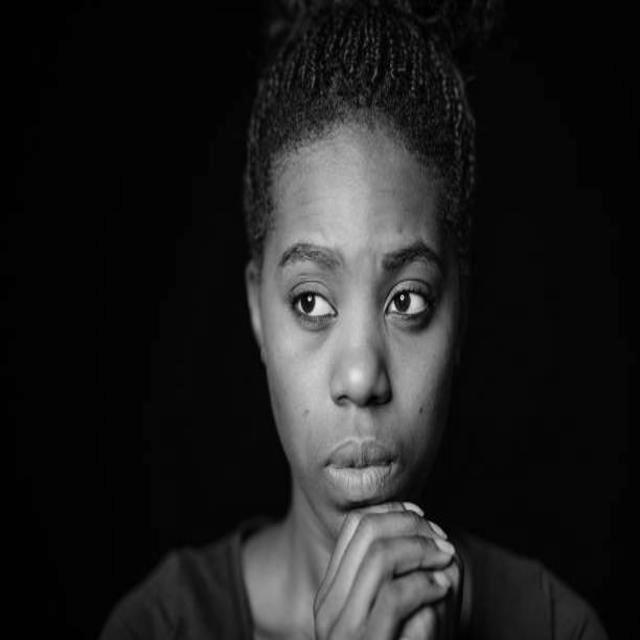Sadness: (253, 125, 462, 543)
